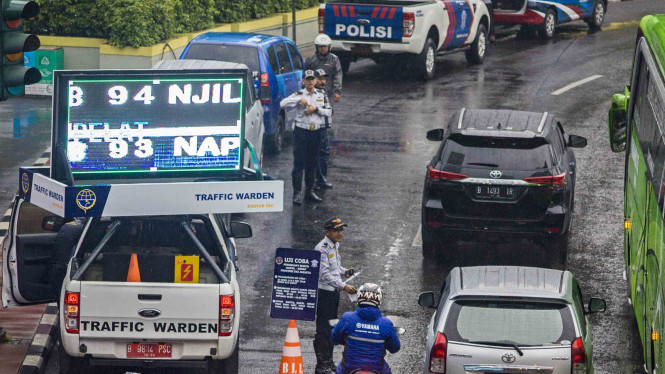plate: (126, 343, 171, 359), (477, 185, 514, 201)
